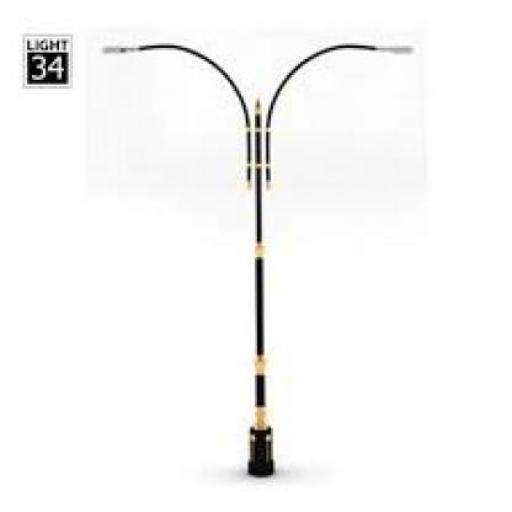street light: (101, 34, 415, 476)
